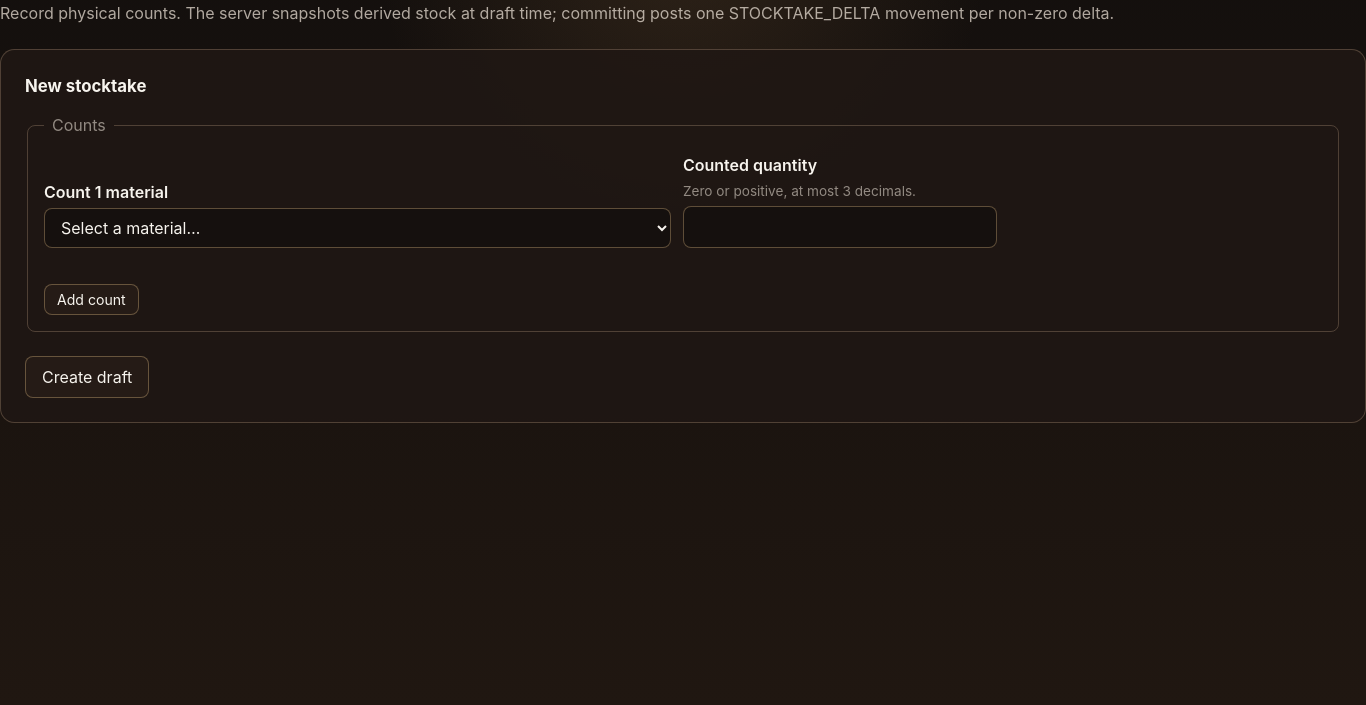
Test case: StocktakingPage › asks for approval comments on APPROVAL_REQUIRED and commits with them
Select "Espresso beans (g)" in the dropdown labelled "Count 1 material" at (358, 228), box [44,208,671,248]
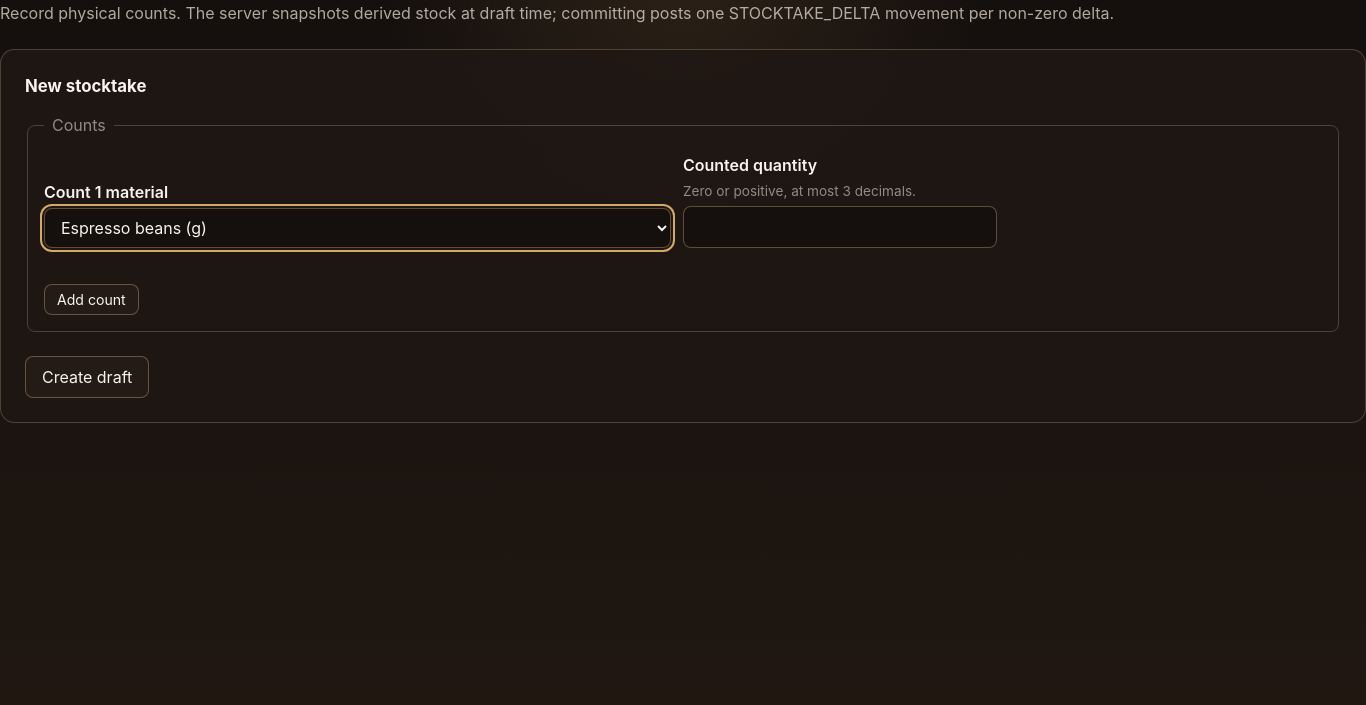
Type "95.000" into the field labelled "Counted quantity" at (840, 227), box [683,206,996,248]
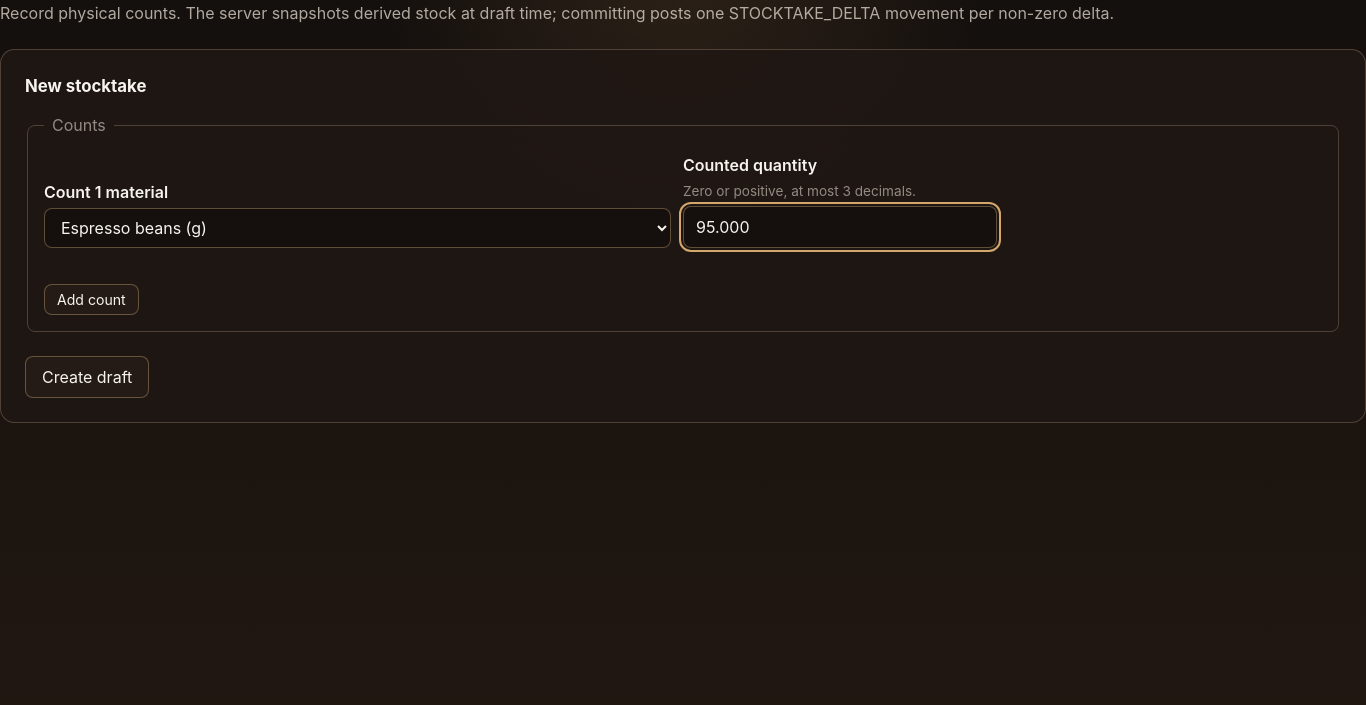
Click the button "Create draft" at (87, 377), box [25,356,149,398]
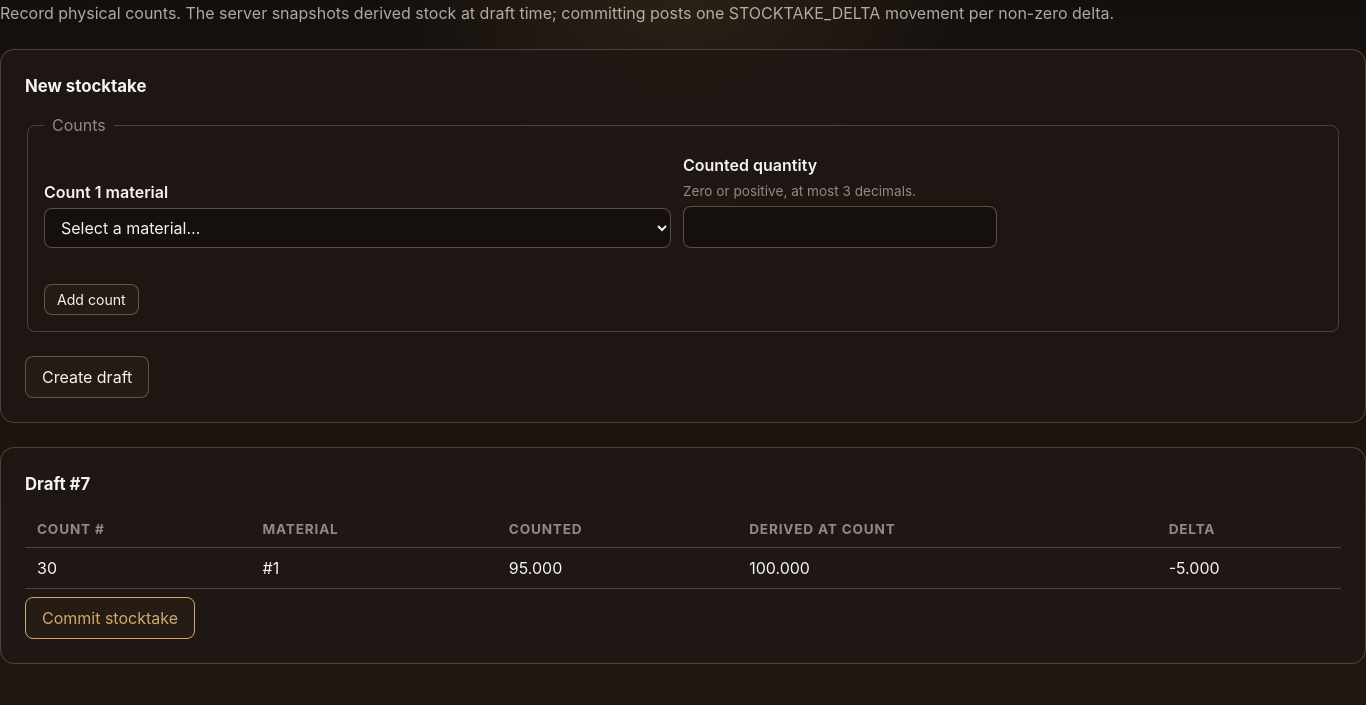
Check: the heading "Draft #7" is shown, box [25,474,90,494]
Click the button "Commit stocktake" at (110, 618), box [25,597,195,639]
(page scrolled)
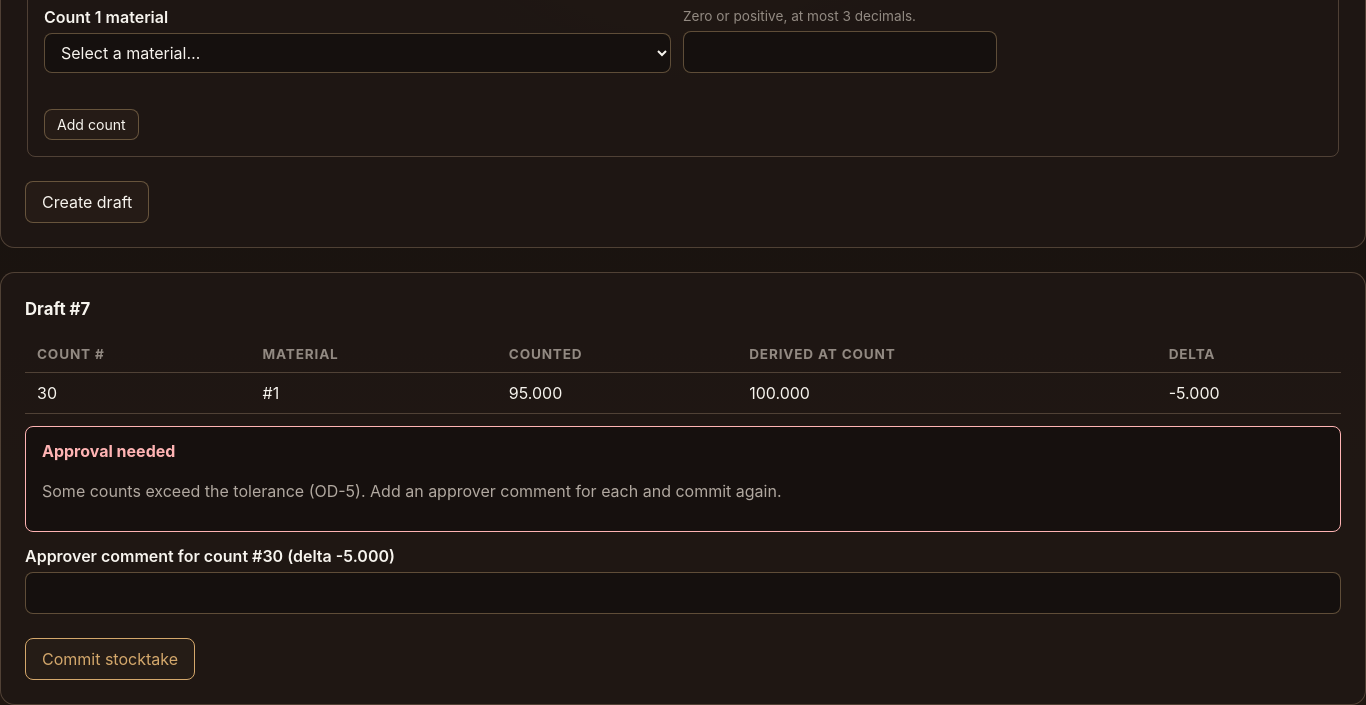
Check: the text "exceed the tolerance" is shown, box [42,481,782,501]
Type "Shrinkage agreed with manager" into the field labelled "Approver comment for count #30 (delta -5.000)" at (683, 593), box [25,572,1341,614]
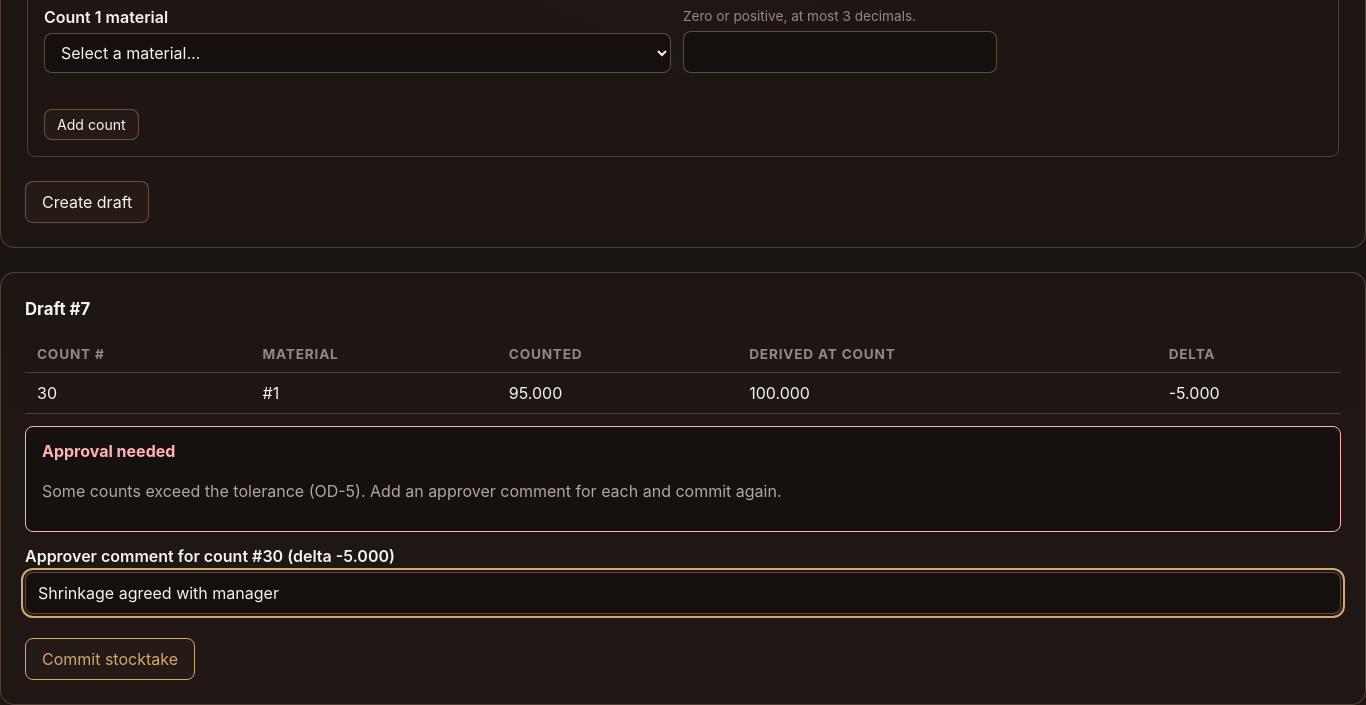
Click the button "Commit stocktake" at (110, 659), box [25,638,195,680]
(page scrolled)
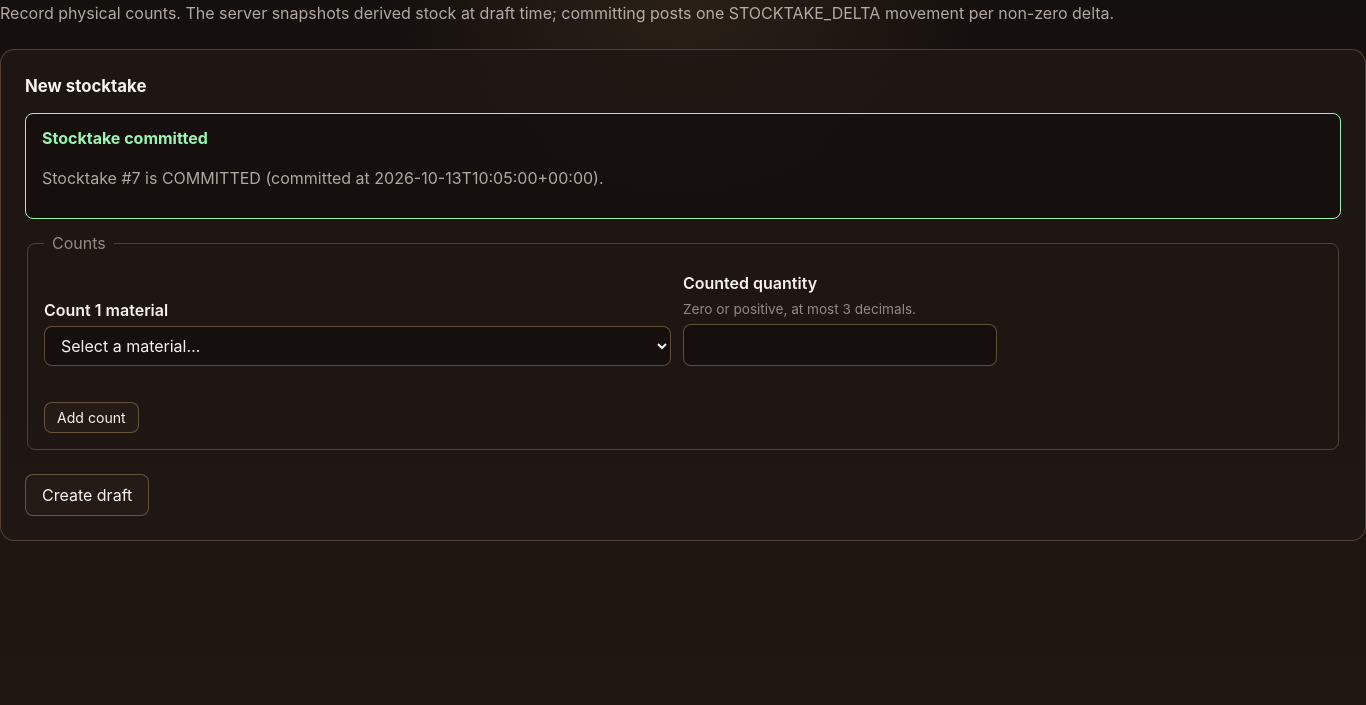
Check: the text "Stocktake committed" is shown, box [42,128,208,148]
